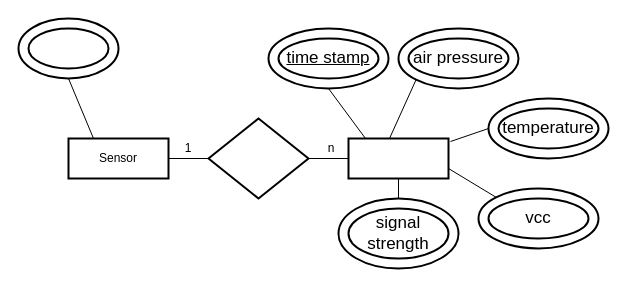
This 626x286 diagram has some shape labels left out. The centre of each missing label's shape, as x and y in pixels:
genrate: the point at 258,158
MAC: the point at 68,48
measuring data: the point at 398,158
